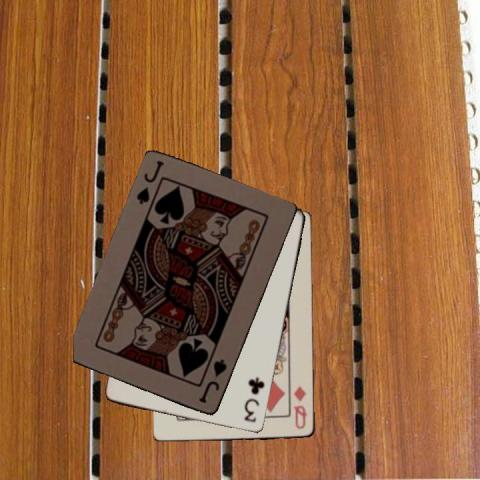3c: (241, 375, 267, 424)
Js: (133, 157, 166, 206), (196, 357, 229, 405)
Qd: (290, 382, 308, 431)
